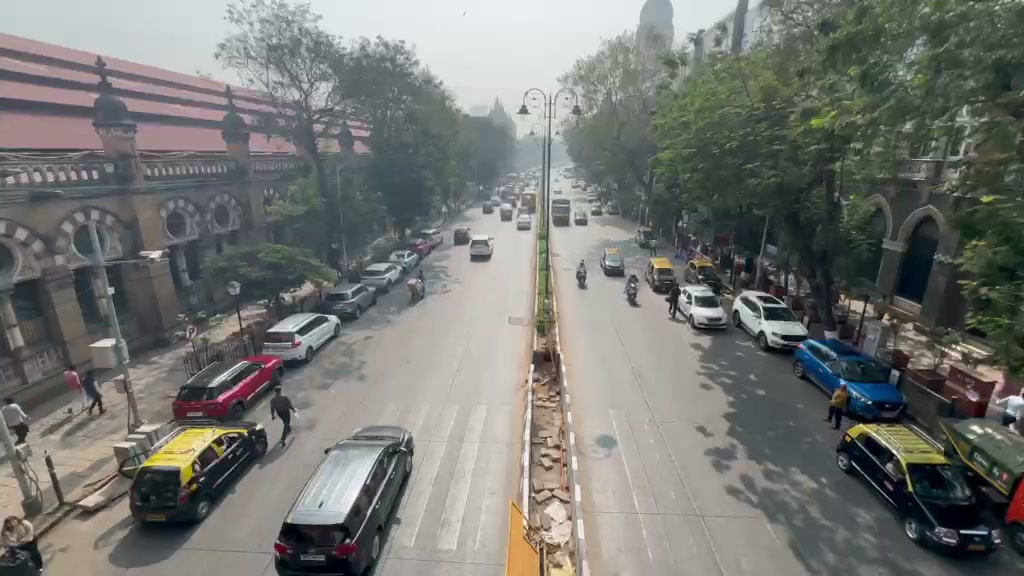car: (834, 419, 1002, 559), (273, 424, 416, 573), (127, 424, 268, 525), (791, 335, 908, 423), (171, 354, 284, 423), (732, 291, 810, 351), (261, 311, 341, 367), (673, 283, 728, 329), (319, 280, 377, 321), (687, 289, 729, 332), (359, 261, 405, 293), (988, 394, 1024, 431), (406, 229, 441, 255), (387, 250, 422, 273), (601, 248, 625, 277), (469, 236, 494, 261), (514, 211, 535, 231), (452, 226, 471, 247), (499, 204, 514, 222)
pedestrian: (271, 391, 297, 450), (81, 367, 104, 417), (827, 383, 848, 429)
truck: (834, 420, 1003, 559), (938, 416, 1024, 552), (646, 255, 678, 294)
